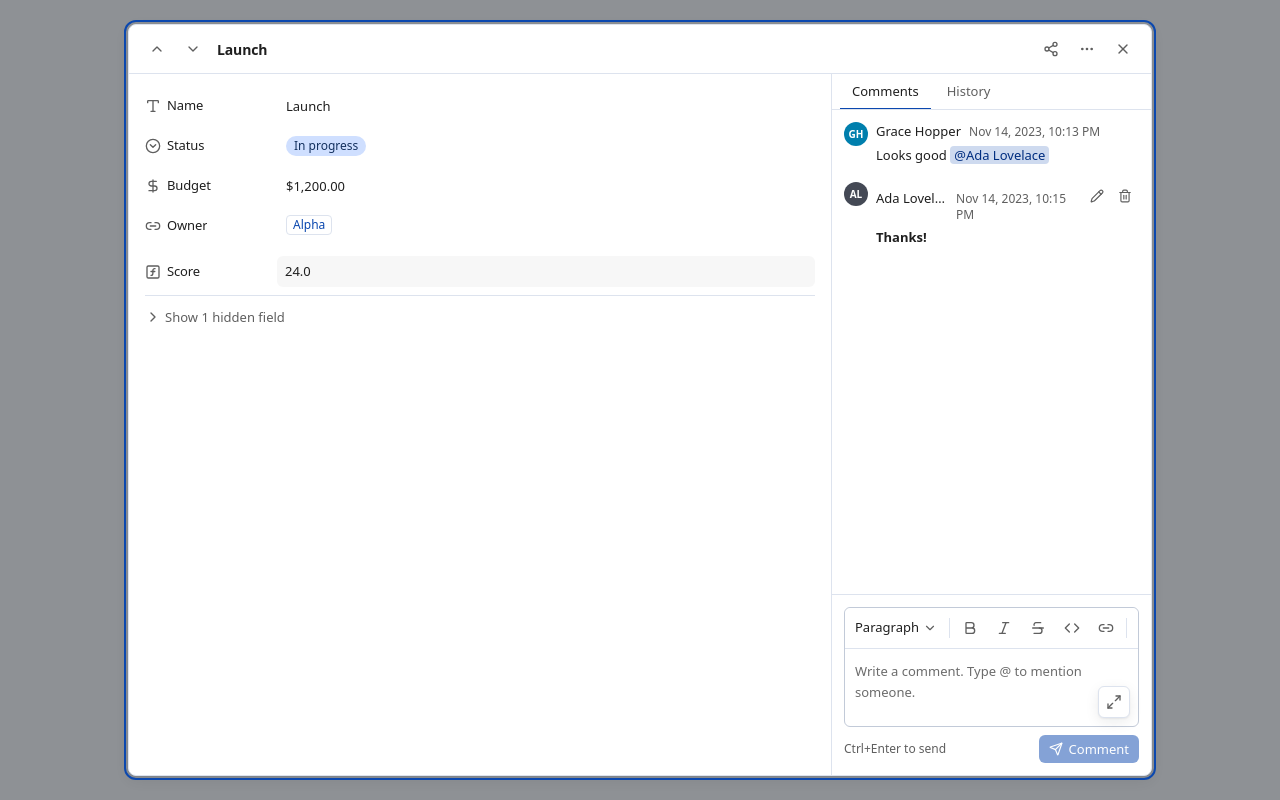
Test: ExpandedRecord › edits a field through the shared editor and sends the wire value with typecast
Click the button with aria-label "Edit Name": (308, 106) [286,97,330,115]
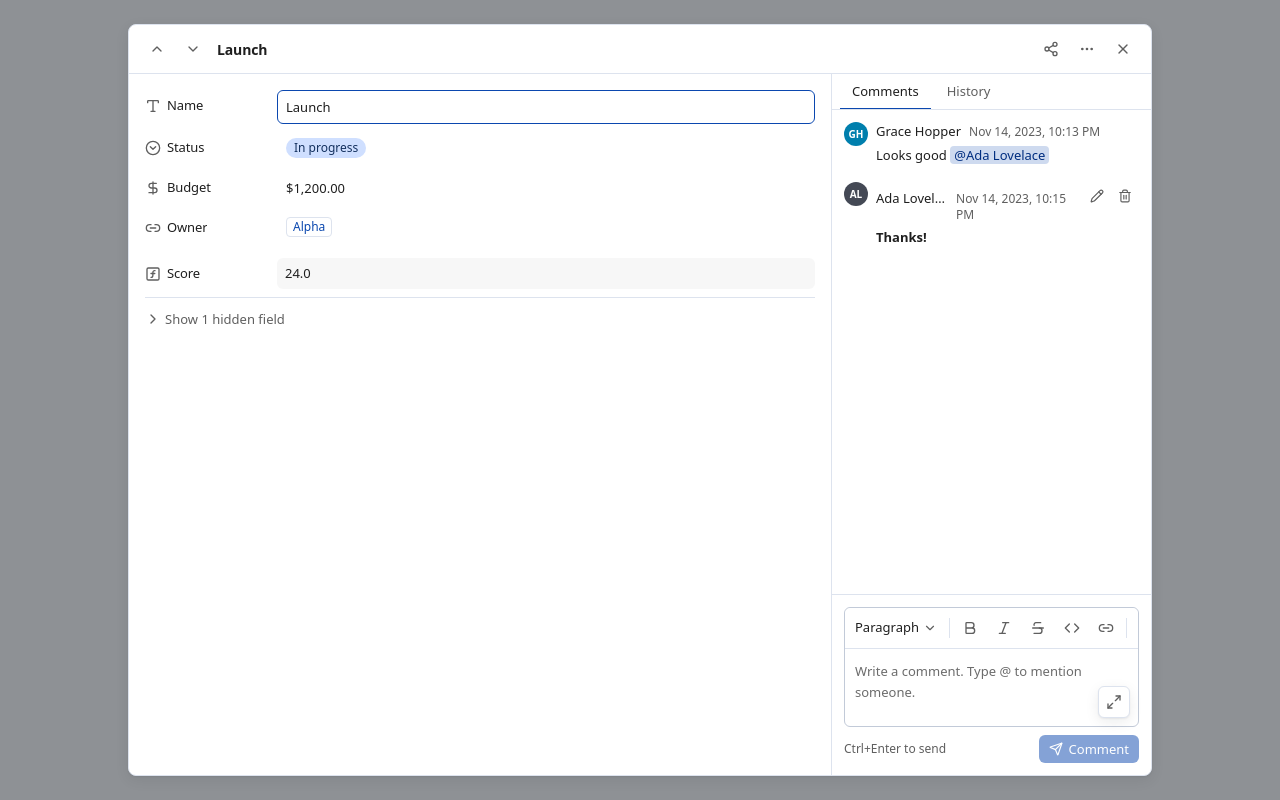
Replace the text in the field labelled "Name" with "Ship it": (546, 107) [278,91,814,123]
Then press Enter
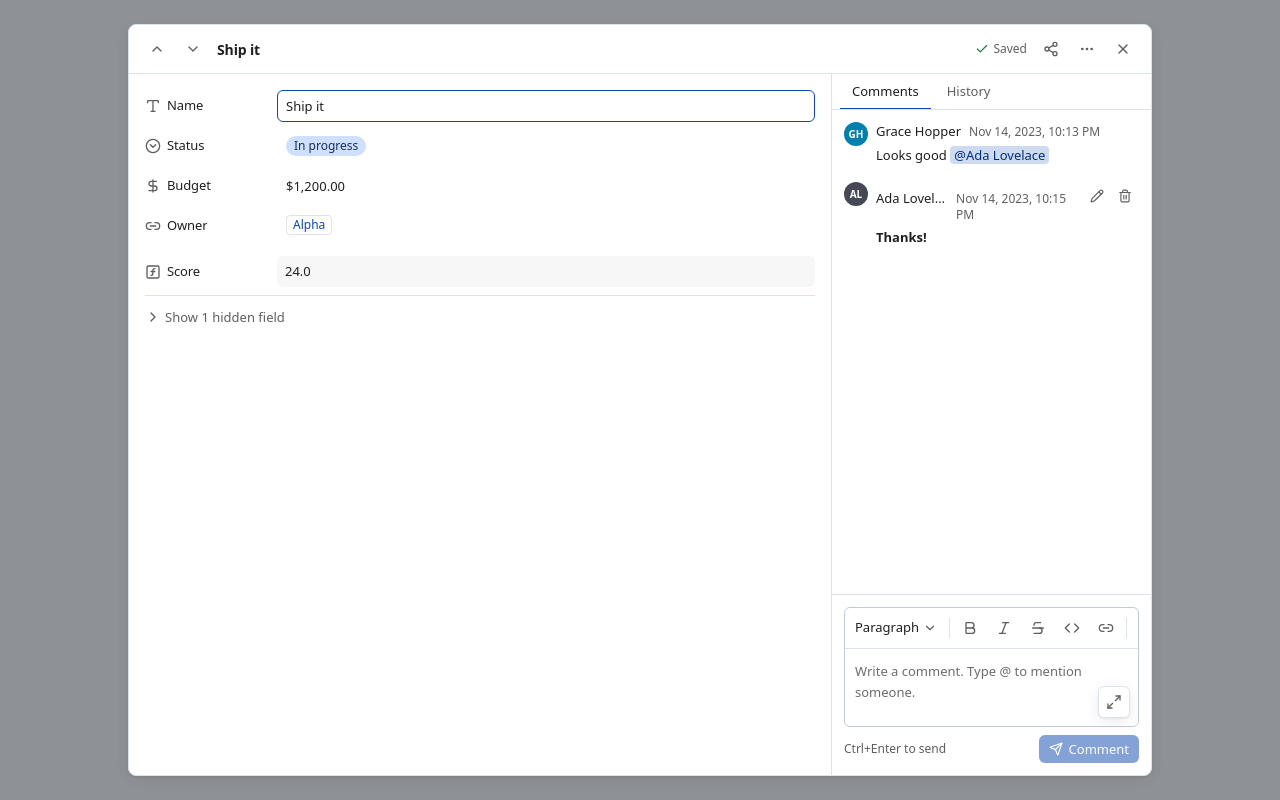
Expected: the heading "Ship it" is shown, [217,40,260,58]
